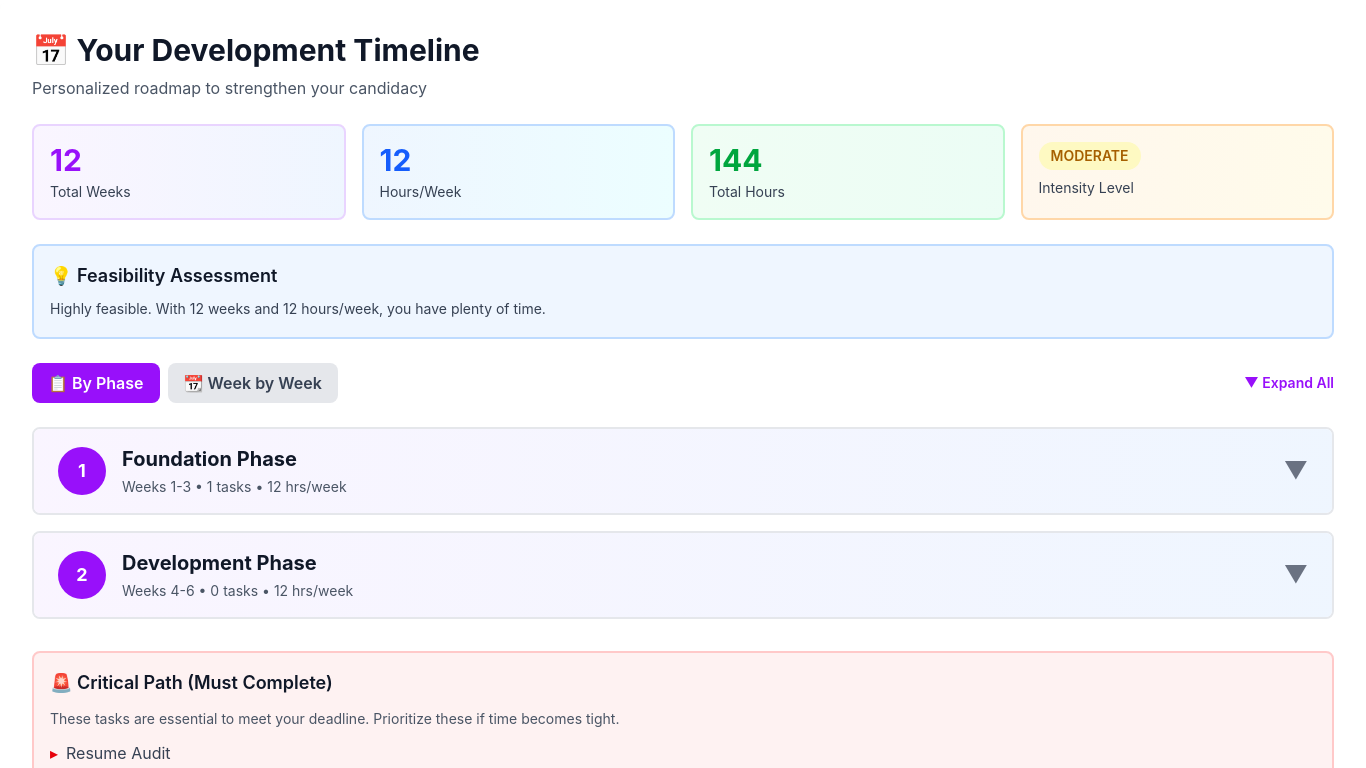
Test case: TimelineSection › Expand All Functionality › should toggle expand all text
Click the button "▼ Expand All". click: (1289, 383)
box: left=1244, top=373, right=1334, bottom=393
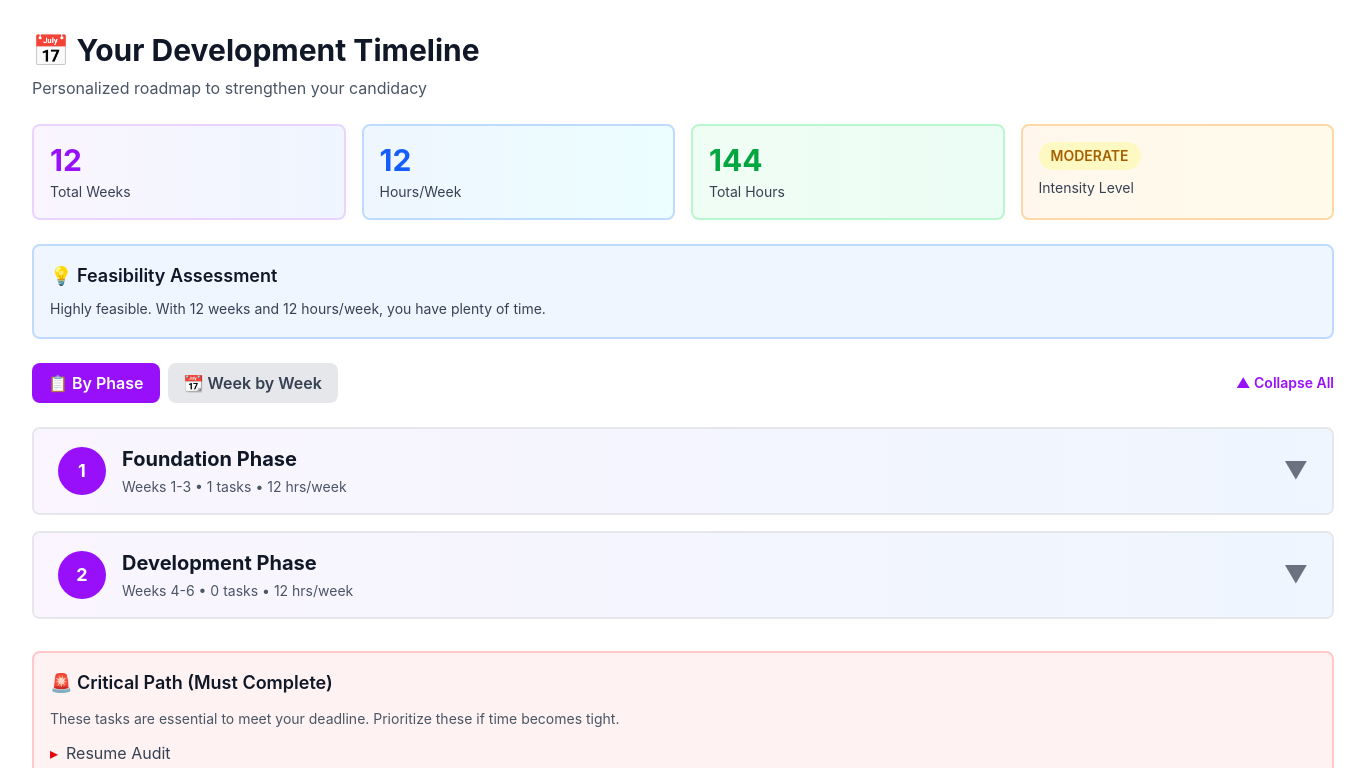
Result: the button "▲ Collapse All" is shown at left=1236, top=373, right=1334, bottom=393
